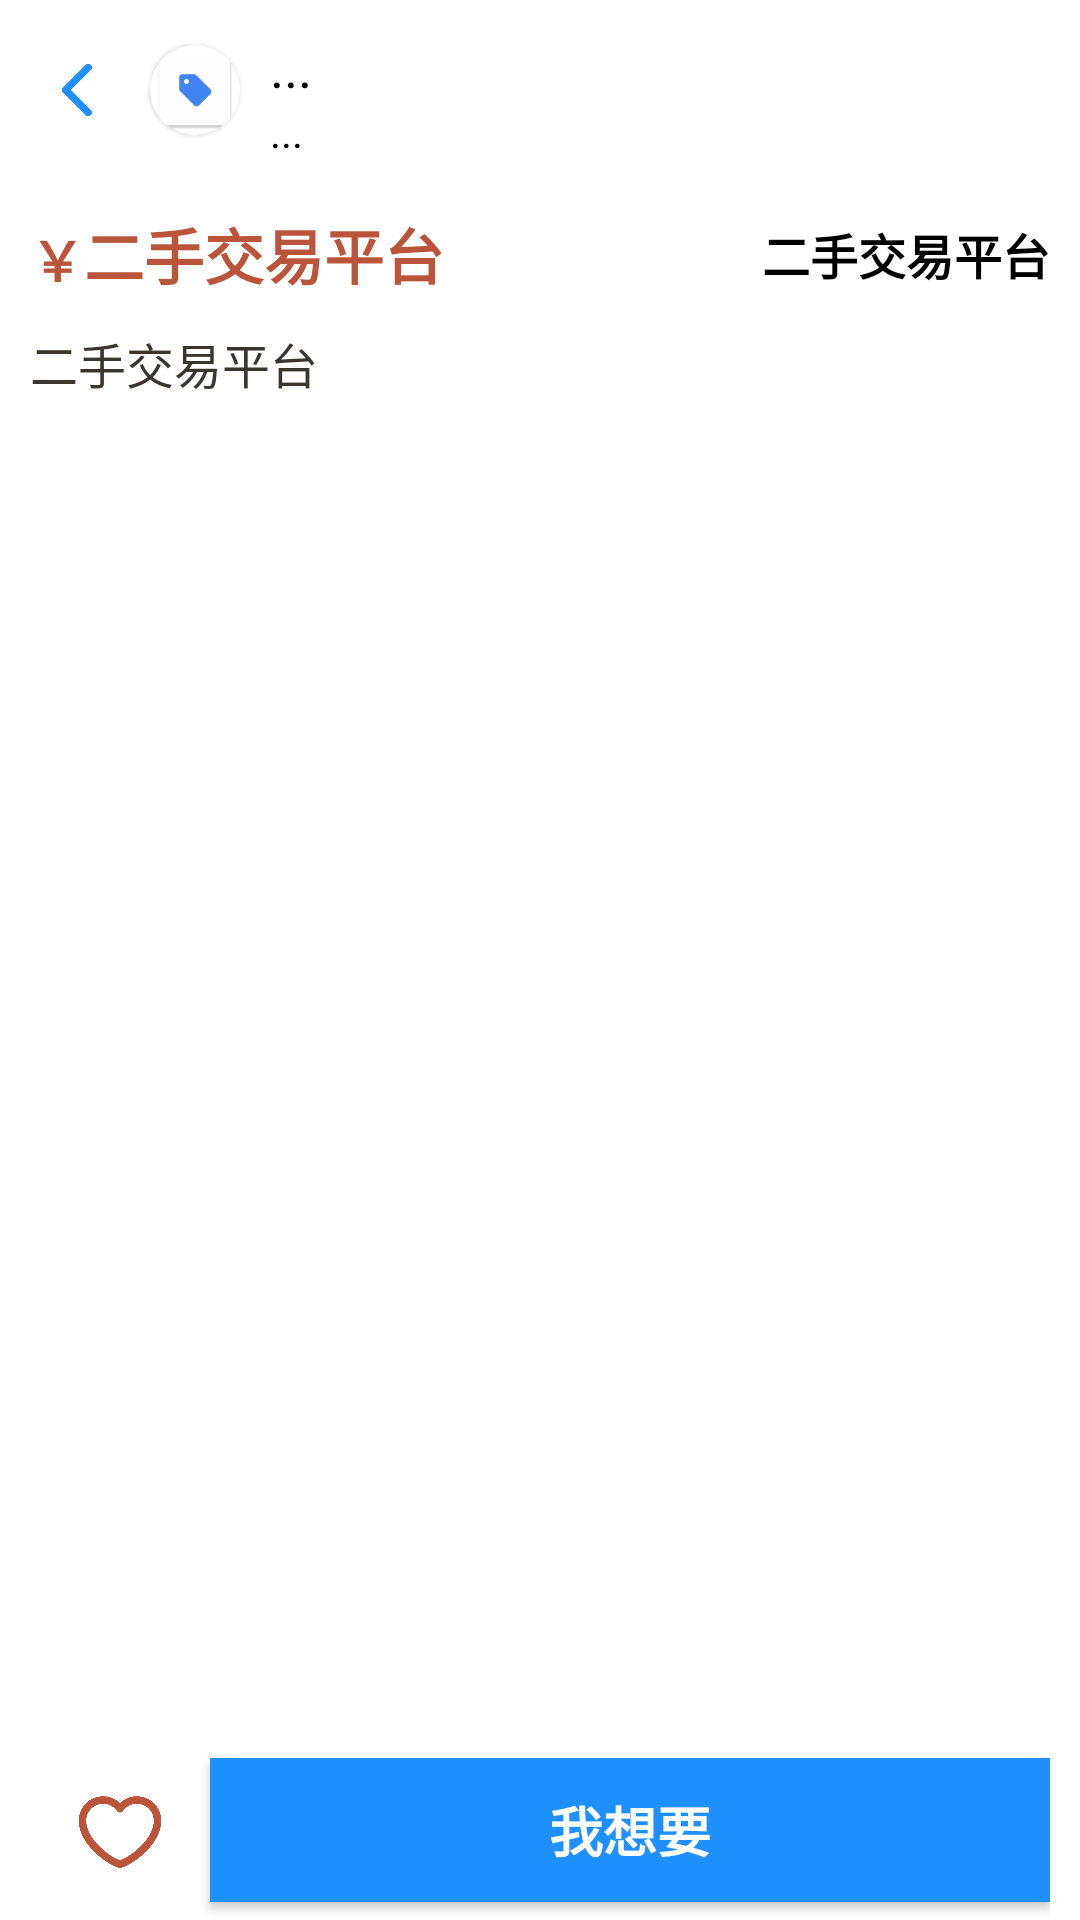

Named icons in this screenshot (1080px x 1920px) and their bounding boxes, (x1, y1, x2, y2):
collect: (79, 1796, 161, 1868)
left: (62, 64, 92, 116)
